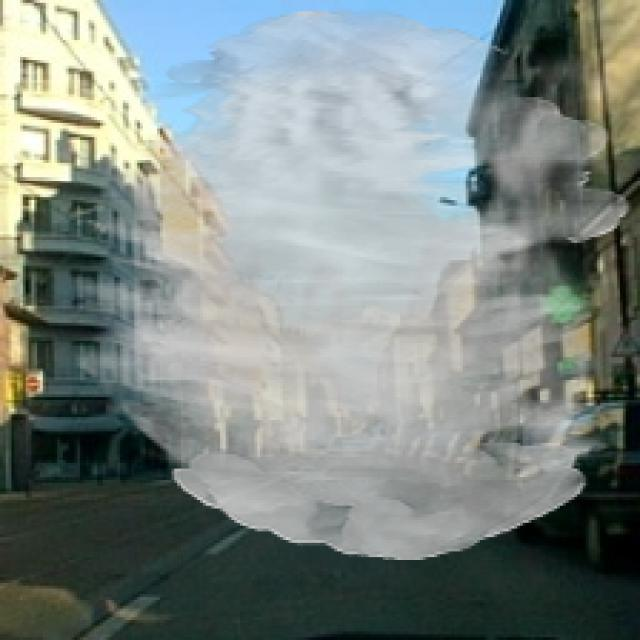Smoke: (69, 8, 632, 560)
